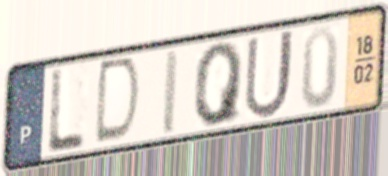0: (299, 23, 341, 111)
D: (92, 53, 144, 148)
I: (159, 46, 183, 140)
L: (45, 66, 88, 157)
Q: (193, 39, 247, 130)
U: (242, 26, 297, 123)
